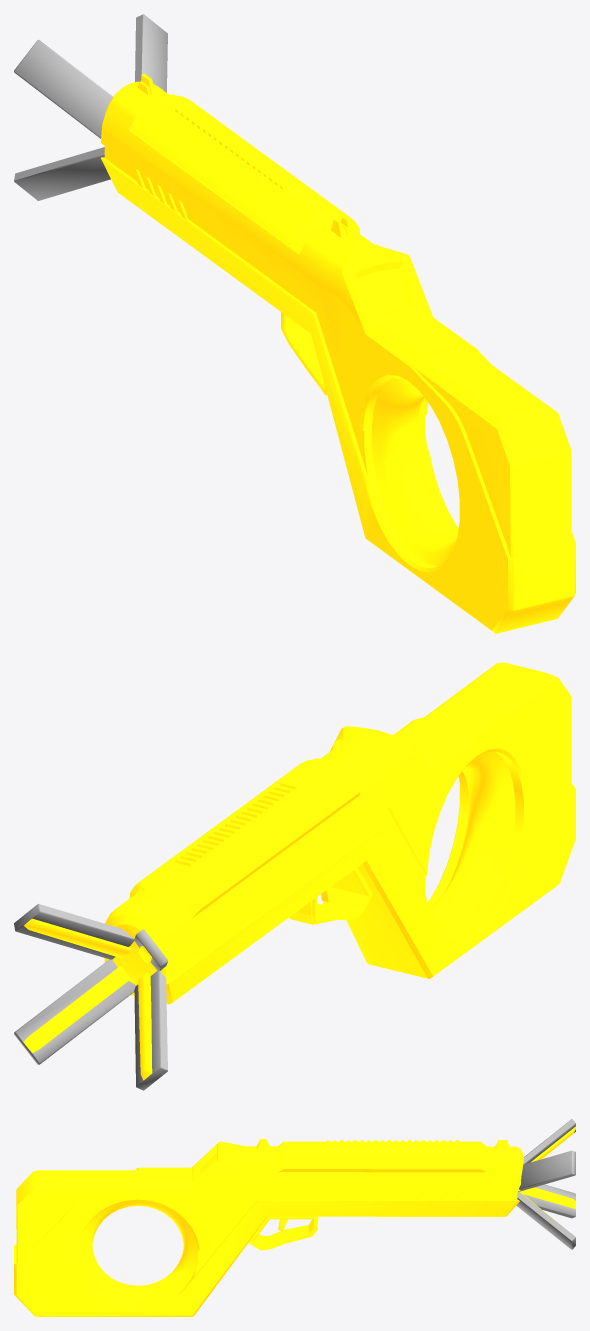
File: GrappleGun.fbx
The picture shows the model from 3 angles, top to bottom: view 1: azimuth 30°, elevation 25°; view 2: azimuth 150°, elevation 25°; view 3: azimuth 270°, elevation 25°; orthographic projection. The views are drawn at different scales.
Parts seen in each view (by area): view 1: GrappleGun, Rotary_Section, u_l, b_l, u_r; view 2: GrappleGun, Rotary_Section, b_r, u_r, b_l, u_l; view 3: GrappleGun, Rotary_Section, u_r, b_l, b_r, u_l.
Boxes of the visible parts, x1,y1,x2,y2 form: GrappleGun: (100,73,575,633); Rotary_Section: (371,378,457,566); u_l: (14,40,112,138); b_l: (14,147,110,200); u_r: (135,14,167,92); GrappleGun: (104,662,575,1004); Rotary_Section: (428,751,515,939); b_r: (14,959,135,1064); u_r: (14,904,134,959); b_l: (134,971,167,1090); u_l: (134,929,167,971); GrappleGun: (14,1139,523,1316); Rotary_Section: (78,1201,197,1307); u_r: (518,1150,575,1191); b_l: (520,1184,575,1218); b_r: (516,1191,575,1249); u_l: (523,1119,575,1164).
Size of the model in its own units: 207 by 360 by 1061.
